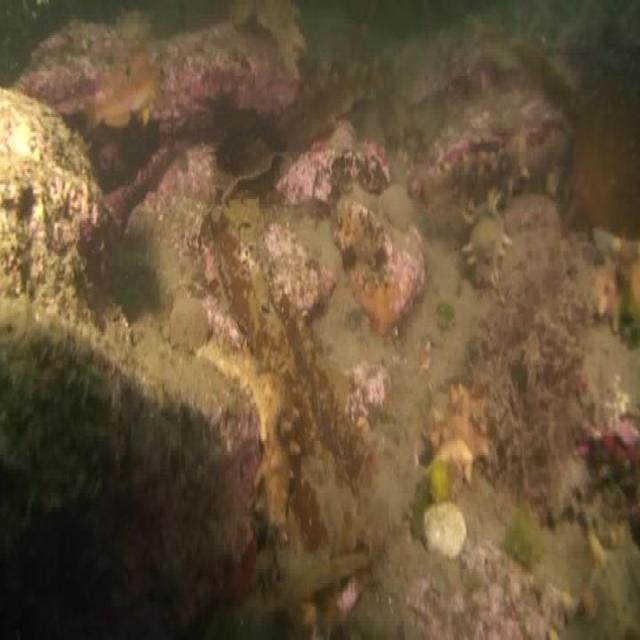holothurian: (195, 336, 302, 539), (458, 146, 524, 288), (585, 523, 640, 640), (425, 381, 487, 477), (593, 251, 640, 348)
scallop: (421, 506, 465, 559)
